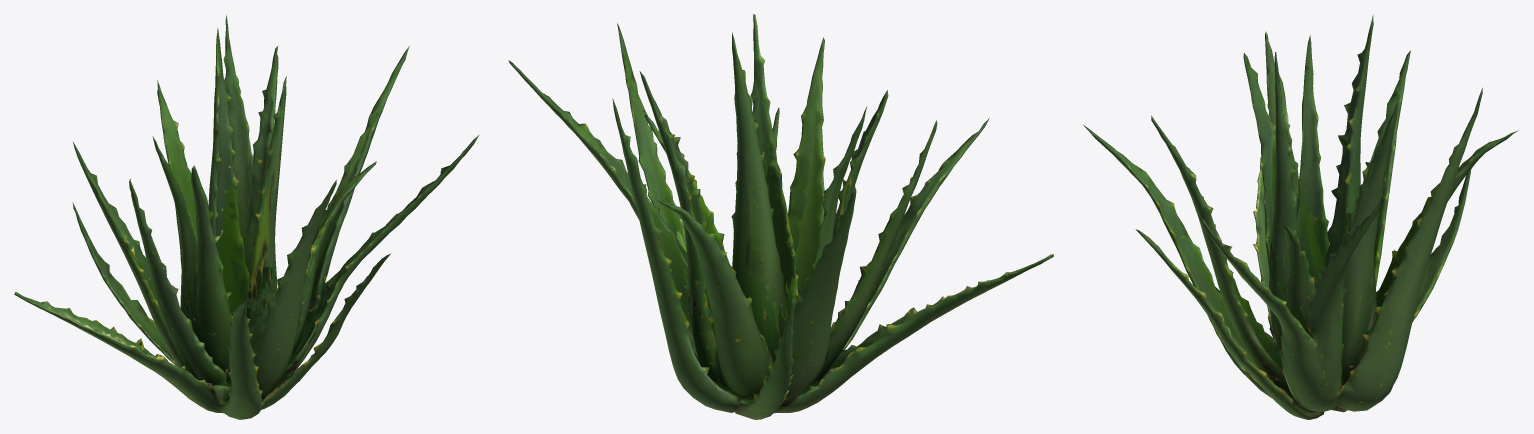
File: aloevera.glb
The picture shows the model from 3 angles, left to right: view 1: azimuth 30°, elevation 25°; view 2: azimuth 150°, elevation 25°; view 3: azimuth 270°, elevation 25°; orthographic projection. The views are drawn at different scales.
Size of the model in its own units: 2 by 1.56 by 1.54.
Materials: 1 (1 with a texture image).
